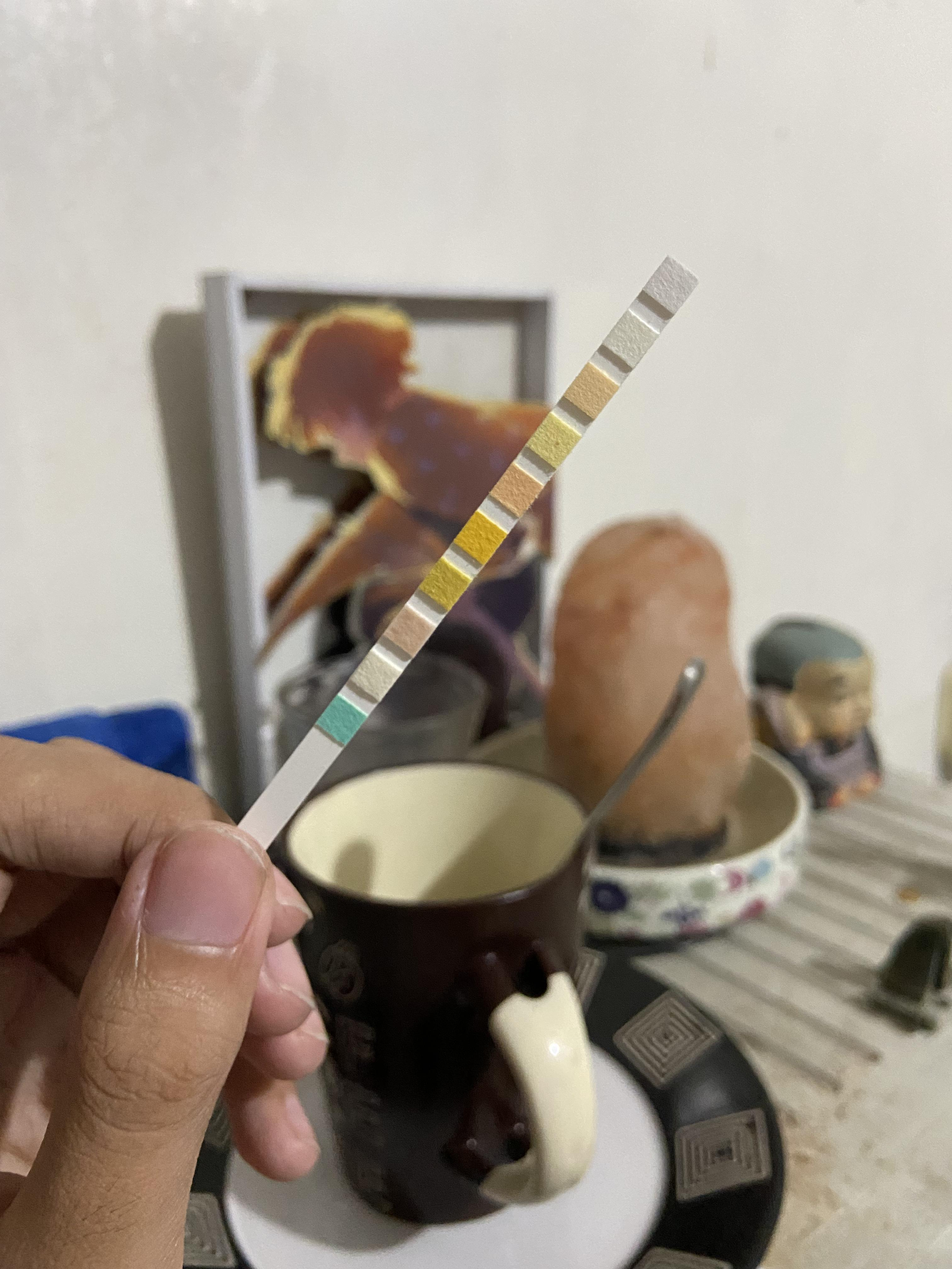Bilirubin: (360, 666, 391, 689)
Blood: (464, 525, 497, 550)
Glucose: (328, 709, 358, 733)
Ketone: (395, 619, 424, 642)
Leukocytes: (656, 273, 687, 299)
Nitrite: (614, 327, 648, 352)
Protein: (539, 429, 569, 453)
SpGravity: (430, 574, 460, 596)
Urobilinogen: (577, 378, 607, 406)
pH: (501, 477, 533, 502)
strip: (246, 260, 699, 840)
